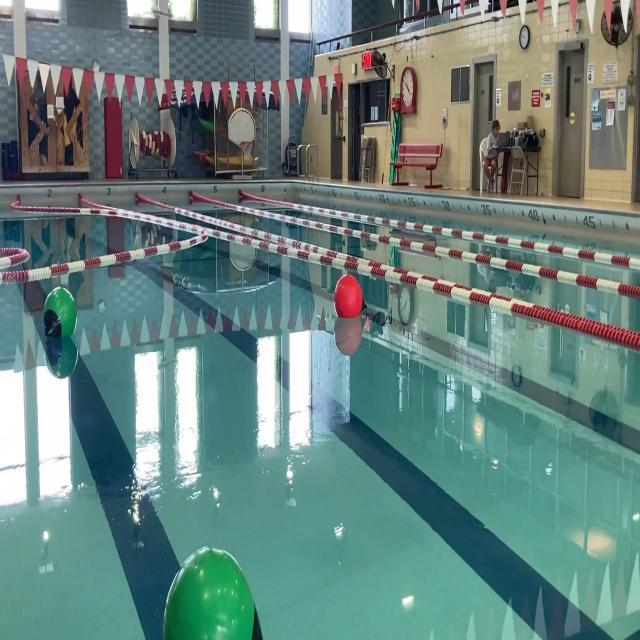buoy: (161, 546, 263, 640), (43, 283, 77, 348), (334, 274, 369, 318)
